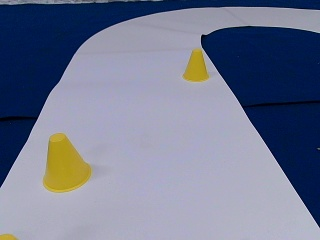cone: (41, 134, 91, 191), (181, 49, 209, 81)
